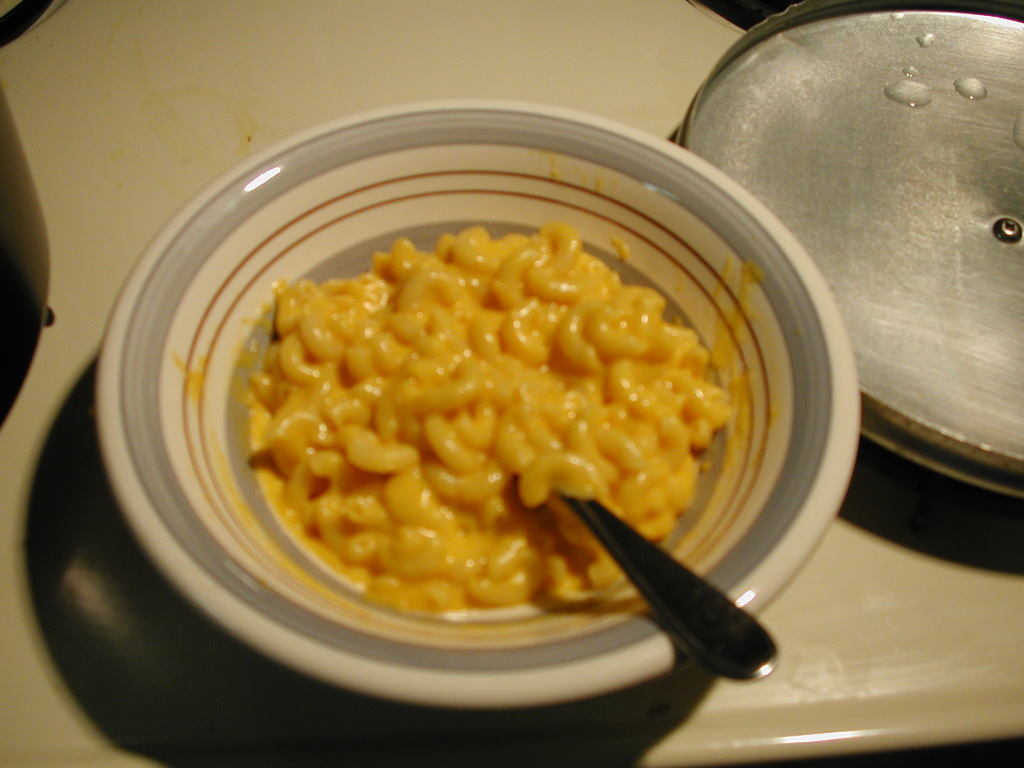pasta: (248, 214, 735, 614)
